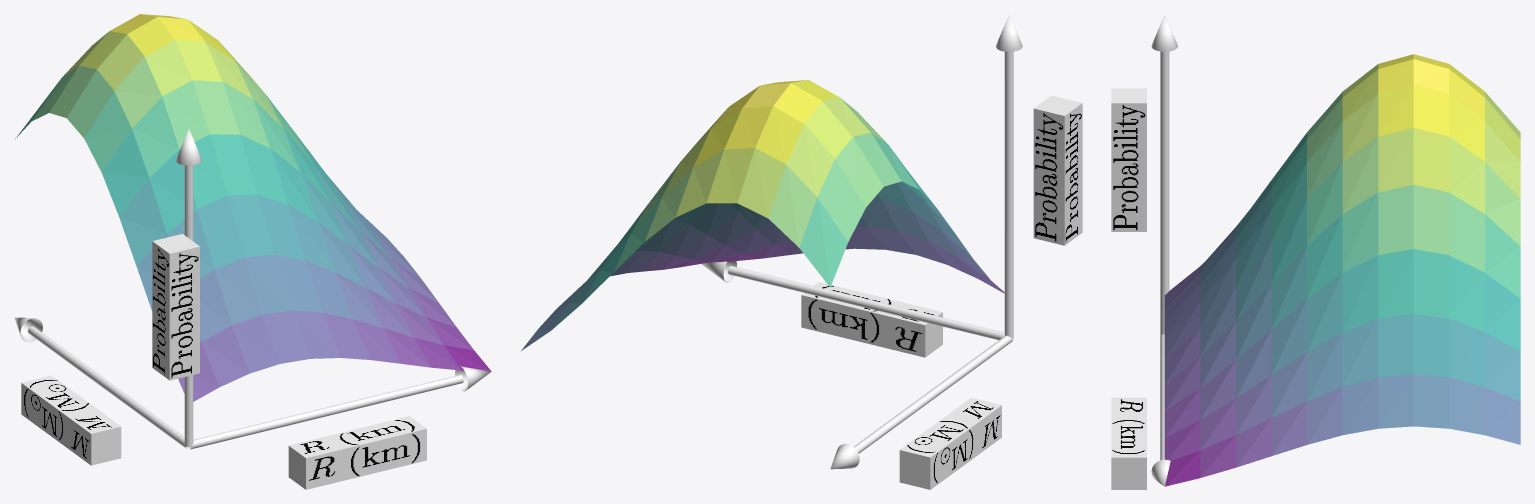
File: den_plot_col.gltf
3 renders of one model, left to right at view 1: azimuth 30°, elevation 25°; view 2: azimuth 150°, elevation 25°; view 3: azimuth 270°, elevation 25°, orthographic. The views are drawn at different scales.
Parts seen in each view (by area): view 1: plot, z_title, x_title, y_title, x_axis1, y_axis1, z_axis1; view 2: plot, z_title, x_title, y_title, z_axis1, x_axis1, y_axis1; view 3: plot, z_title, x_title, z_axis1, x_axis1.
Part boxes in pixels (x1=…): plot: x1=15, y1=14, x2=491, y2=401; z_title: x1=152, y1=234, x2=199, y2=380; x_title: x1=288, y1=416, x2=426, y2=489; y_title: x1=21, y1=375, x2=121, y2=465; x_axis1: x1=187, y1=366, x2=491, y2=449; y_axis1: x1=14, y1=317, x2=190, y2=449; z_axis1: x1=176, y1=129, x2=201, y2=447; plot: x1=521, y1=80, x2=1005, y2=350; z_title: x1=1033, y1=95, x2=1082, y2=245; x_title: x1=801, y1=282, x2=942, y2=357; y_title: x1=899, y1=397, x2=1001, y2=489; z_axis1: x1=996, y1=14, x2=1022, y2=338; x_axis1: x1=701, y1=261, x2=1004, y2=340; y_axis1: x1=830, y1=335, x2=1012, y2=469; plot: x1=1164, y1=54, x2=1520, y2=486; z_title: x1=1111, y1=88, x2=1146, y2=231; x_title: x1=1111, y1=397, x2=1146, y2=489; z_axis1: x1=1151, y1=14, x2=1177, y2=335; x_axis1: x1=1151, y1=334, x2=1170, y2=486.
Size of the model in its own units: 1.15 by 1.15 by 1.15.
Materials: 37 (3 with a texture image).
